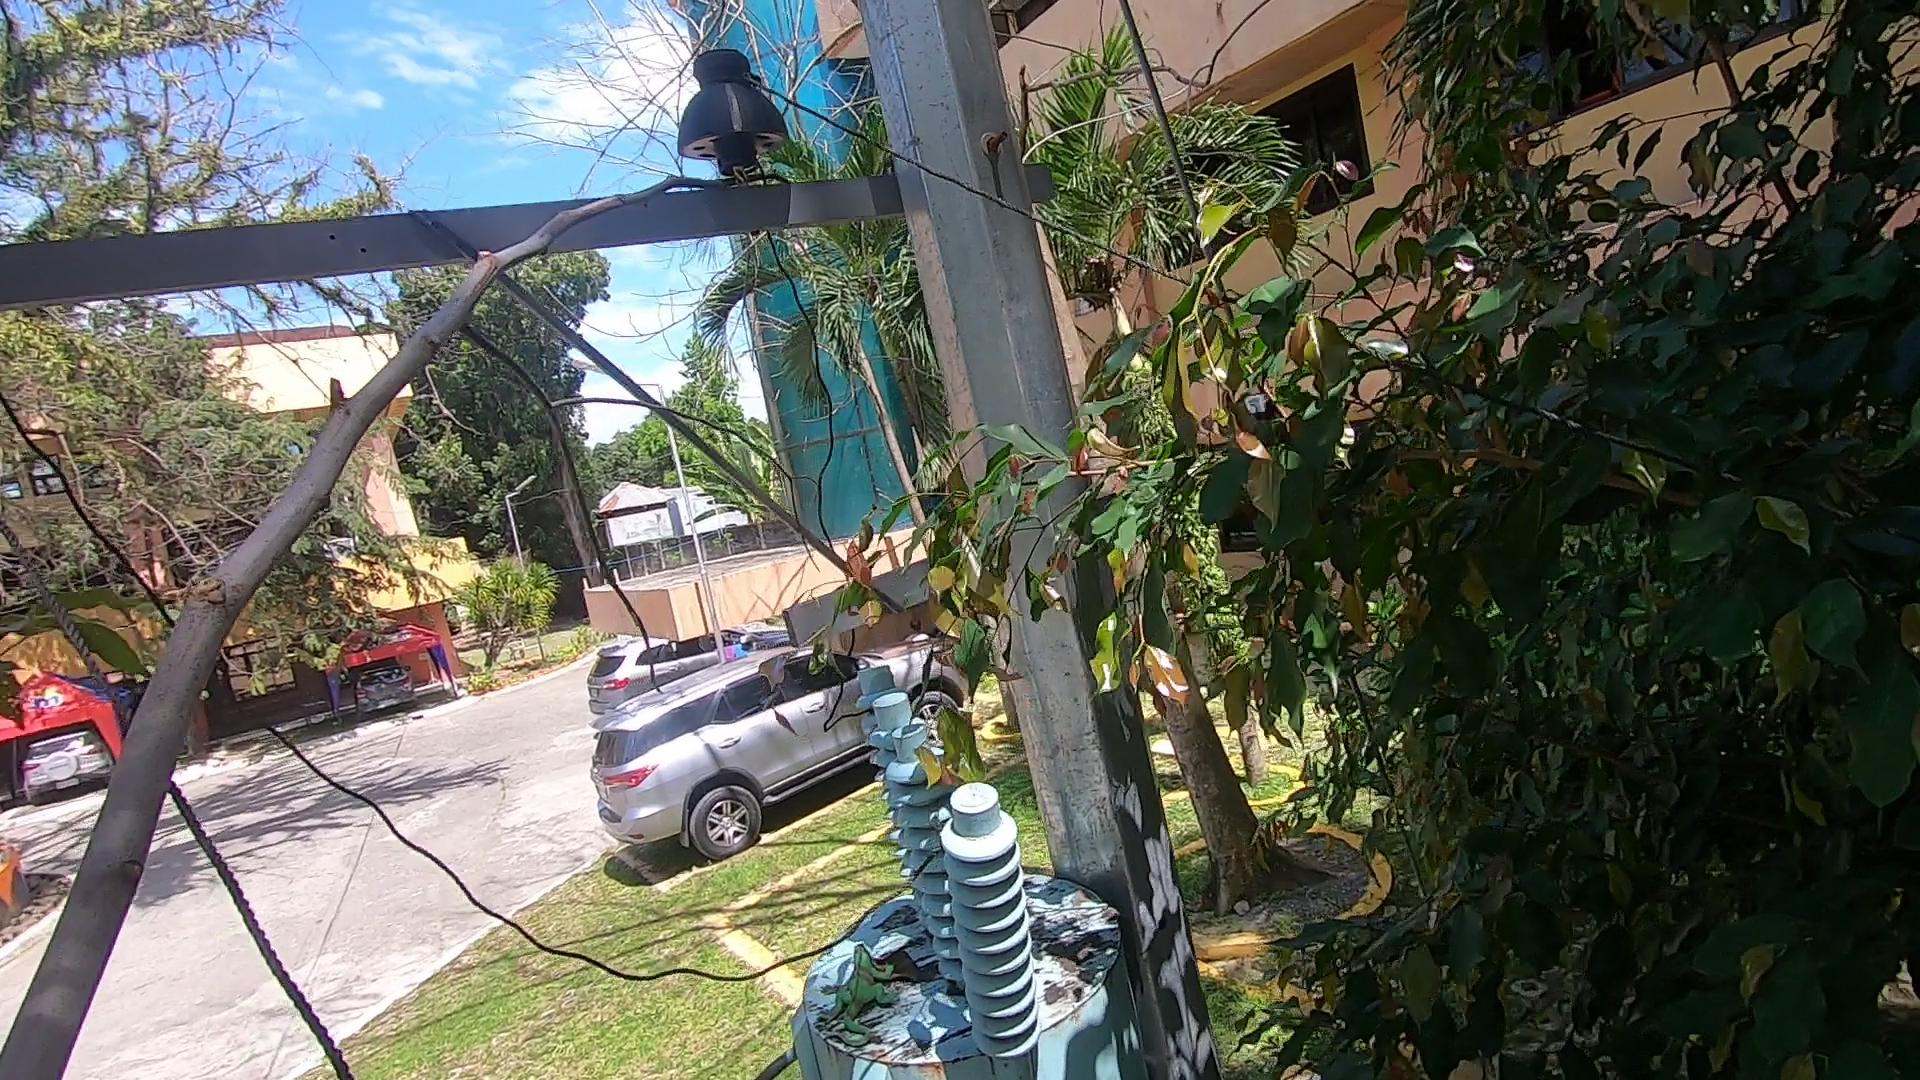leaf: (874, 940, 947, 1011), (1039, 918, 1120, 978)
tree branch: (3, 45, 720, 1080), (742, 418, 1166, 778)
